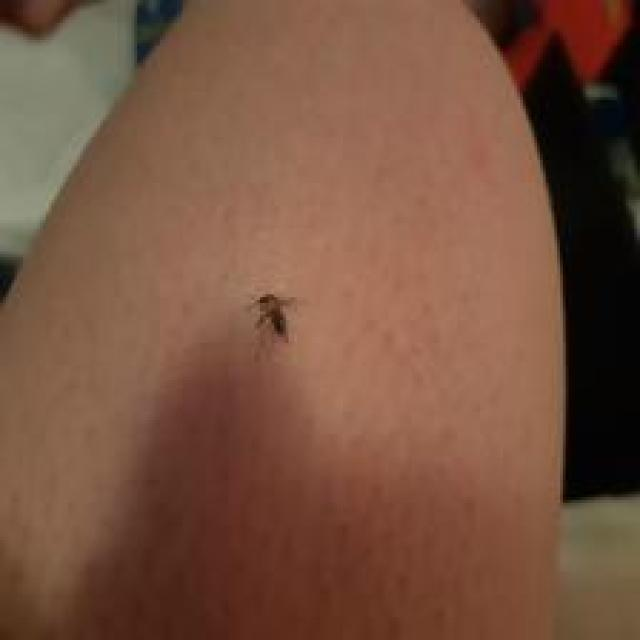Culex: (247, 291, 299, 360)
